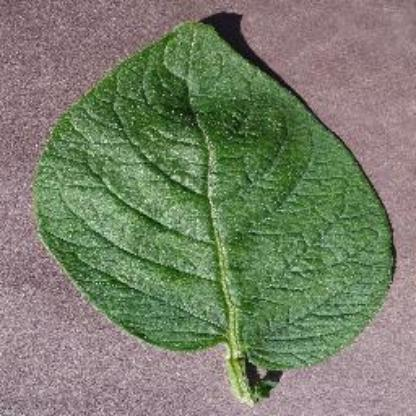Healthy-plant: (35, 18, 396, 404)
